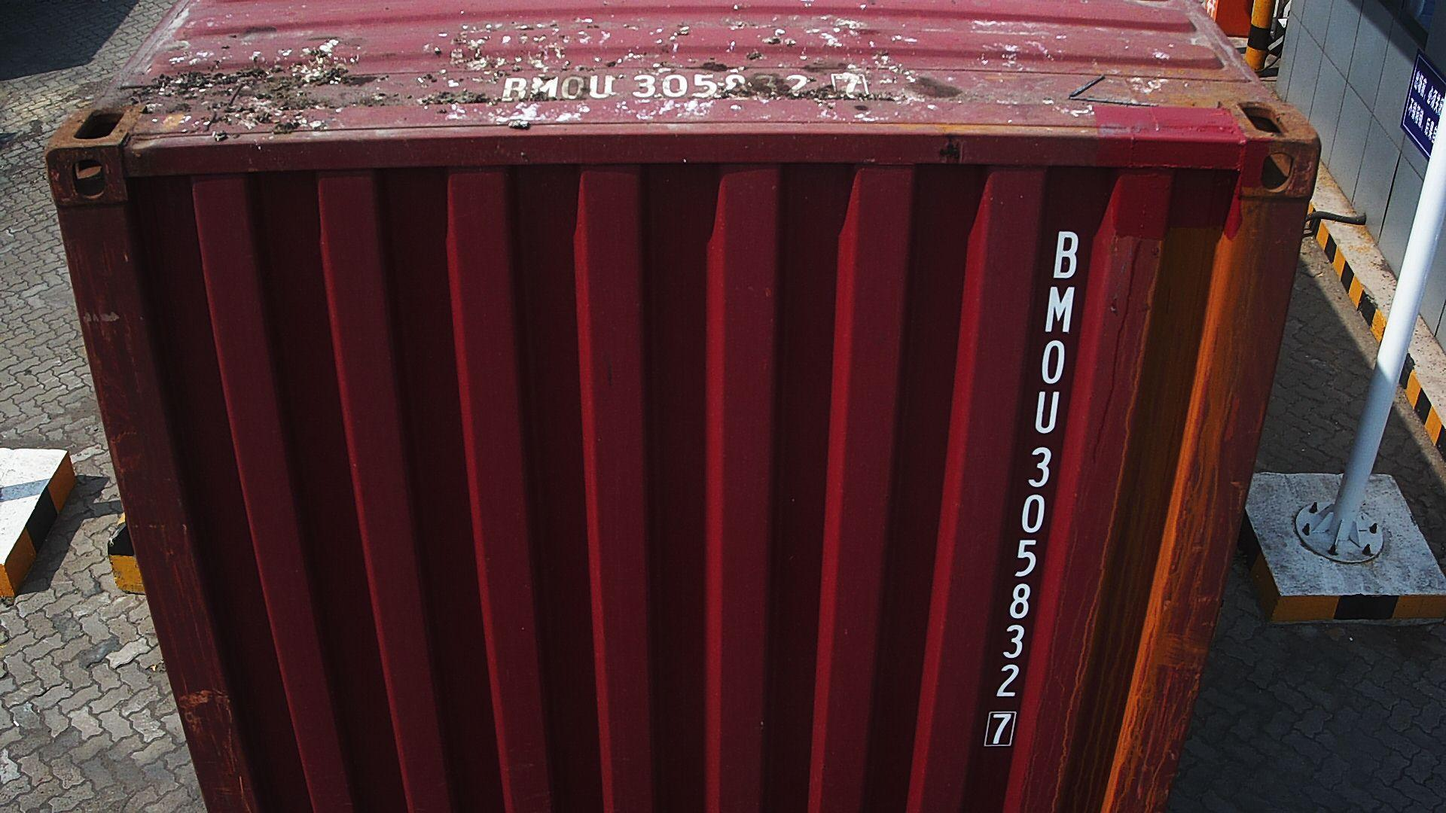container-numbers: (979, 223, 1083, 756), (490, 66, 874, 104)
